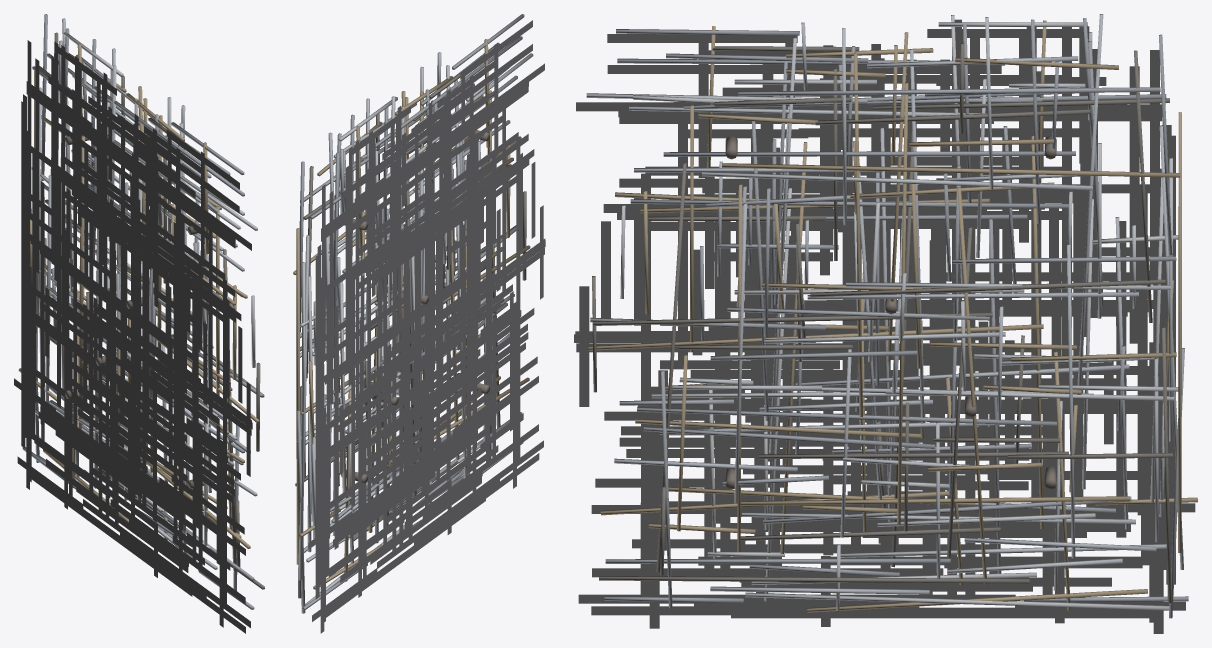
Rendered from hall2f_wall_art.glb.
The picture shows the model from 3 angles, left to right: view 1: azimuth 30°, elevation 25°; view 2: azimuth 150°, elevation 25°; view 3: azimuth 270°, elevation 25°; orthographic projection. The views are drawn at different scales.
Visible parts, largest first — view 1: root; view 2: root; view 3: root.
Part boxes in pixels (bbox=[...]): root: bbox=[14, 14, 264, 633]; root: bbox=[293, 14, 545, 633]; root: bbox=[574, 14, 1197, 633].
Size of the model in its own units: 0.0488 by 0.9281 by 0.8343.
